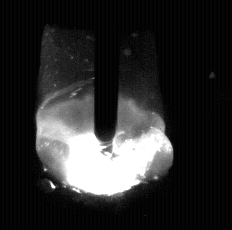arame: (94, 0, 119, 153)
poca: (35, 0, 169, 230)
